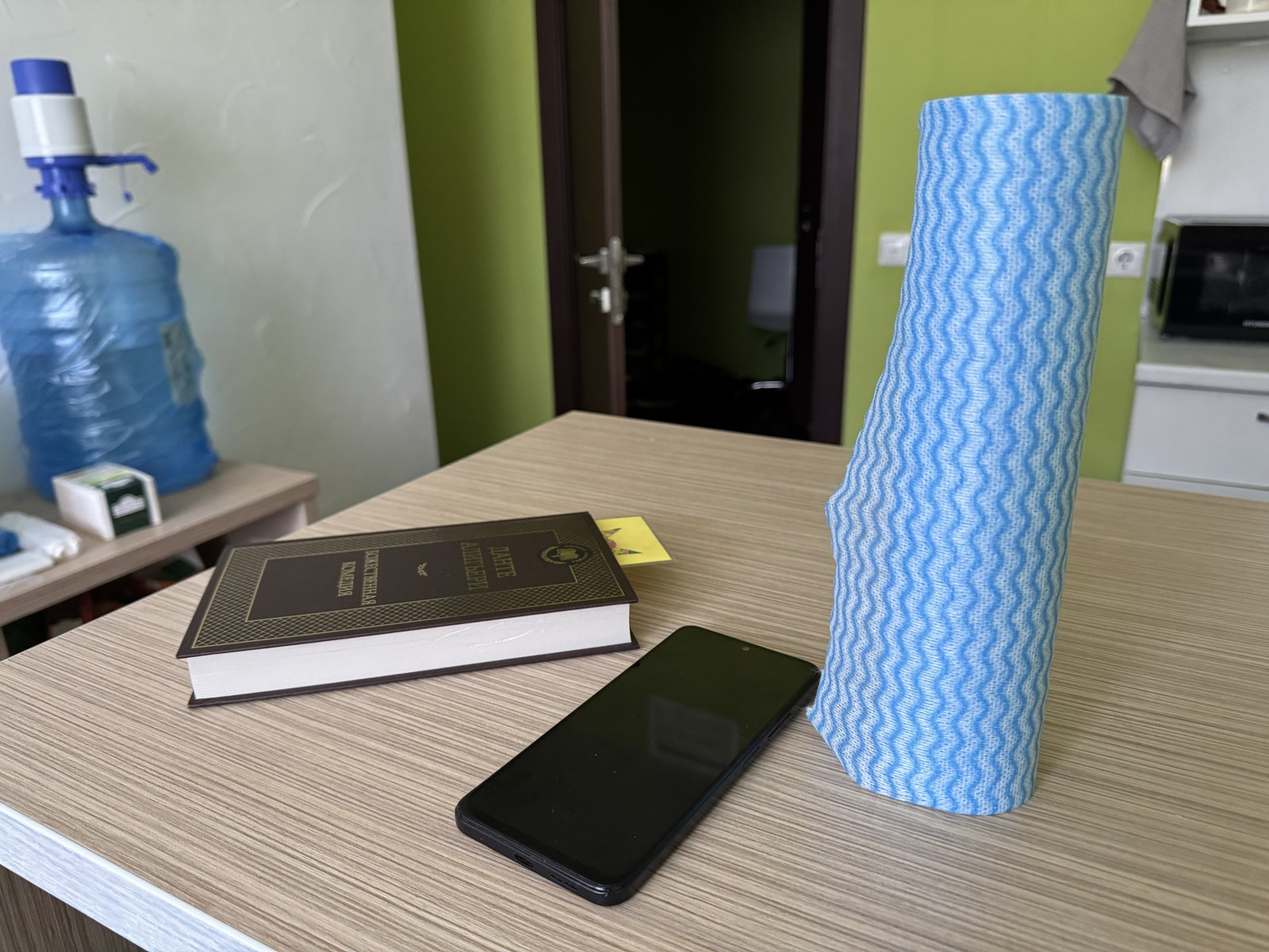cell phone: (451, 622, 823, 909)
